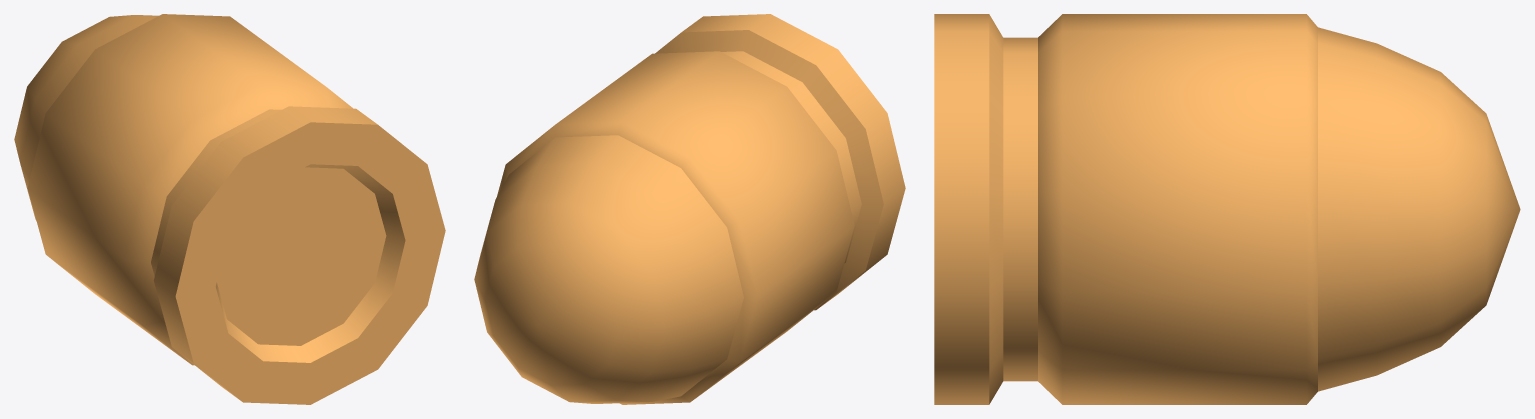
Rendered from Bullet_FBX.fbx.
The picture shows the model from 3 angles, left to right: view 1: azimuth 30°, elevation 25°; view 2: azimuth 150°, elevation 25°; view 3: azimuth 270°, elevation 25°; orthographic projection. The views are drawn at different scales.
Parts seen in each view (by area): view 1: Bullet; view 2: Bullet; view 3: Bullet.
Boxes of the visible parts, x1,y1,x2,y2 form: Bullet: [14, 14, 445, 404]; Bullet: [474, 14, 905, 404]; Bullet: [934, 14, 1520, 404].
Bounding box in the file's own units: 0.3629 × 0.3629 × 0.5421.
